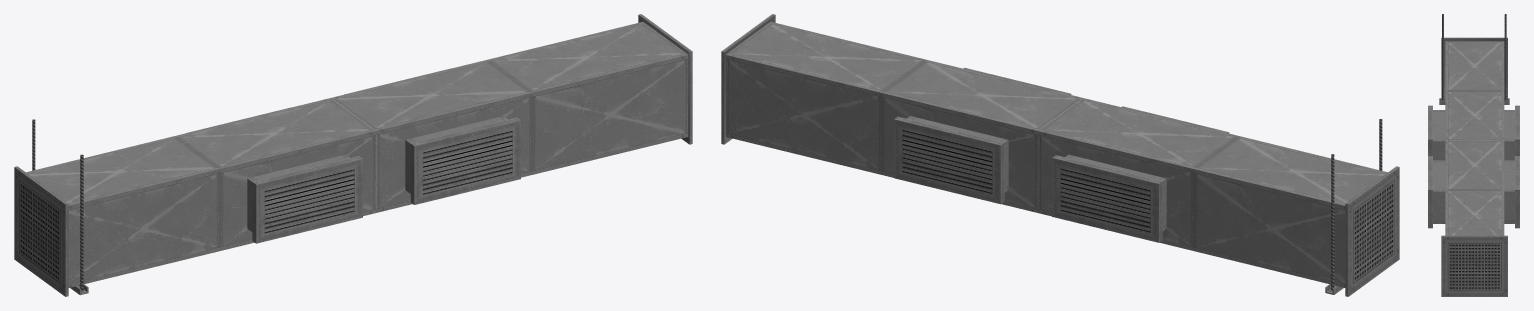
The model's file is HH_Ventilation_4m_02.fbx.
The picture shows the model from 3 angles, left to right: view 1: azimuth 30°, elevation 25°; view 2: azimuth 150°, elevation 25°; view 3: azimuth 270°, elevation 25°; orthographic projection. The views are drawn at different scales.
Visible parts, largest first — view 1: HH_Ventilation_4m_02_LOD0; view 2: HH_Ventilation_4m_02_LOD0; view 3: HH_Ventilation_4m_02_LOD0.
Part boxes in pixels (x1=…): HH_Ventilation_4m_02_LOD0: x1=14, y1=14, x2=692, y2=296; HH_Ventilation_4m_02_LOD0: x1=721, y1=14, x2=1399, y2=296; HH_Ventilation_4m_02_LOD0: x1=1428, y1=14, x2=1519, y2=296.
Size of what is drawn, in the model's own units: 400 by 83.44 by 77.94.
